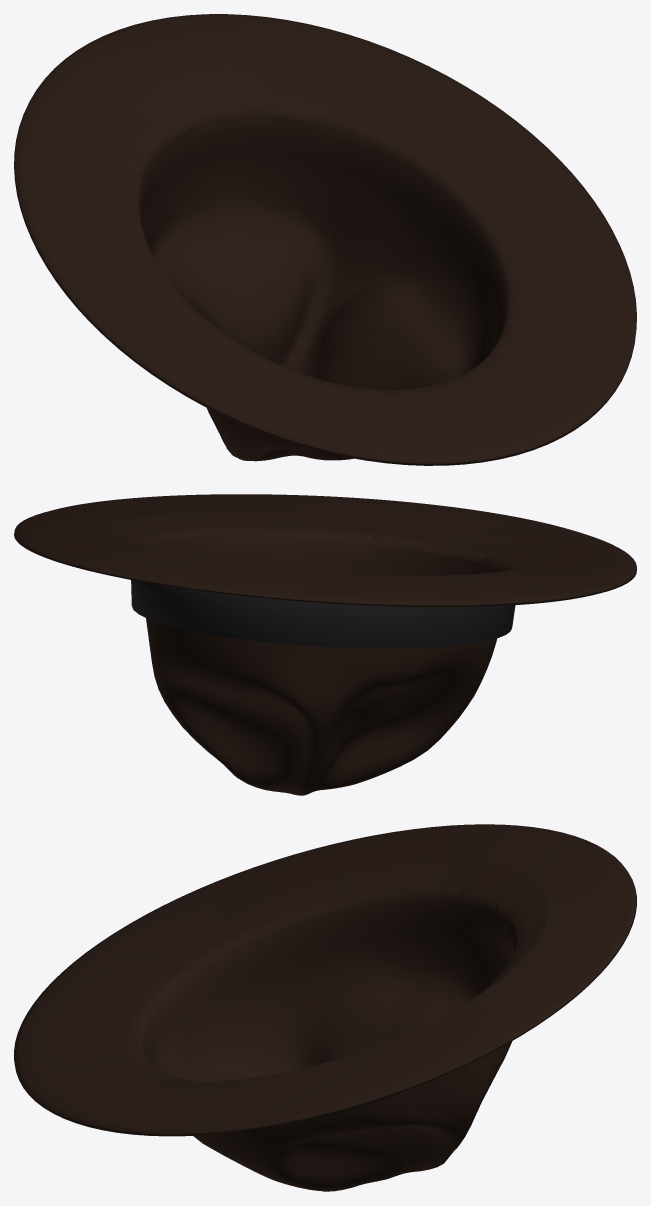
The model's file is smokey_hat_fitted.glb.
The picture shows the model from 3 angles, top to bottom: view 1: azimuth 30°, elevation 25°; view 2: azimuth 150°, elevation 25°; view 3: azimuth 270°, elevation 25°; orthographic projection. The views are drawn at different scales.
Visible parts, largest first — view 1: Fitted_Brim, Fitted_Crown; view 2: Fitted_Crown, Fitted_Brim, Fitted_Band; view 3: Fitted_Brim, Fitted_Crown.
Boxes of the visible parts, left/top/right/bottom form: Fitted_Brim: left=14, top=14, right=636, bottom=465; Fitted_Crown: left=123, top=115, right=525, bottom=461; Fitted_Crown: left=126, top=524, right=521, bottom=795; Fitted_Brim: left=14, top=494, right=636, bottom=607; Fitted_Band: left=131, top=580, right=515, bottom=648; Fitted_Brim: left=14, top=824, right=636, bottom=1136; Fitted_Crown: left=143, top=878, right=513, bottom=1191.
Size of the model in its own units: 0.6789 by 0.3979 by 0.7698.
